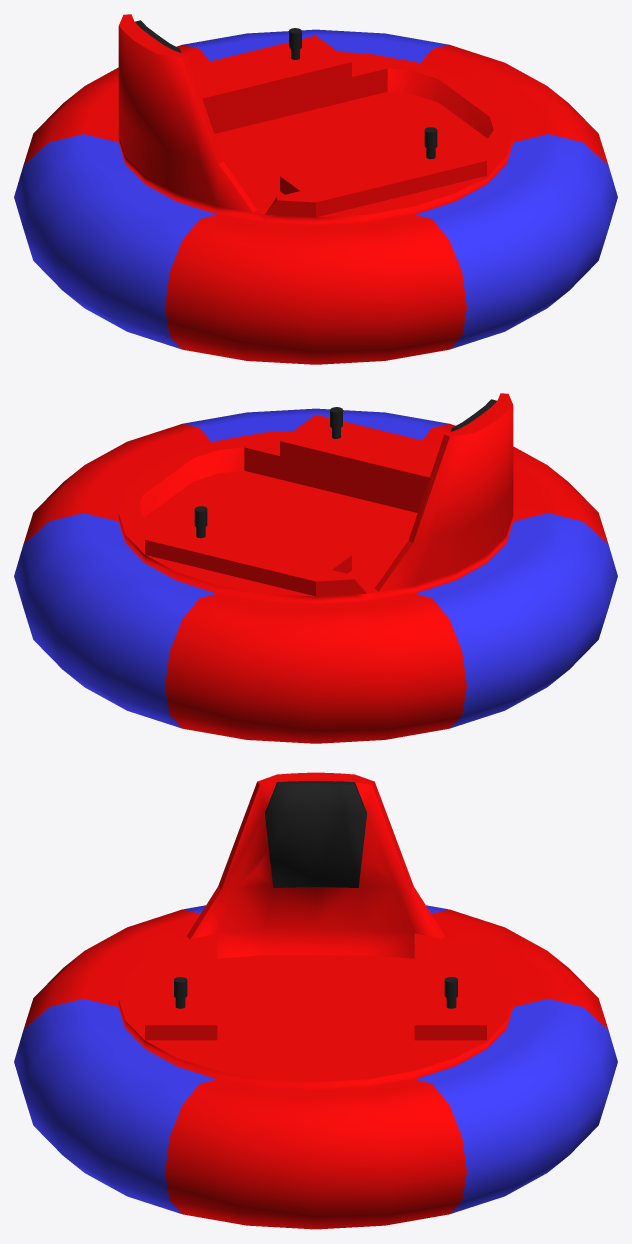
Rendered from TorusCart_red_darkblue.dae.
3 views of the same model, one above another, from view 1: azimuth 30°, elevation 25°; view 2: azimuth 150°, elevation 25°; view 3: azimuth 270°, elevation 25° (orthographic).
Parts seen in each view (by area): view 1: Torus.004; view 2: Torus.004; view 3: Torus.004.
Part boxes in pixels (box(x1,y1,x2,y2)): Torus.004: box(14, 14, 617, 364); Torus.004: box(14, 393, 617, 743); Torus.004: box(14, 772, 617, 1229).
Bounding box in the file's own units: 1.3 × 1.3 × 0.6266.
